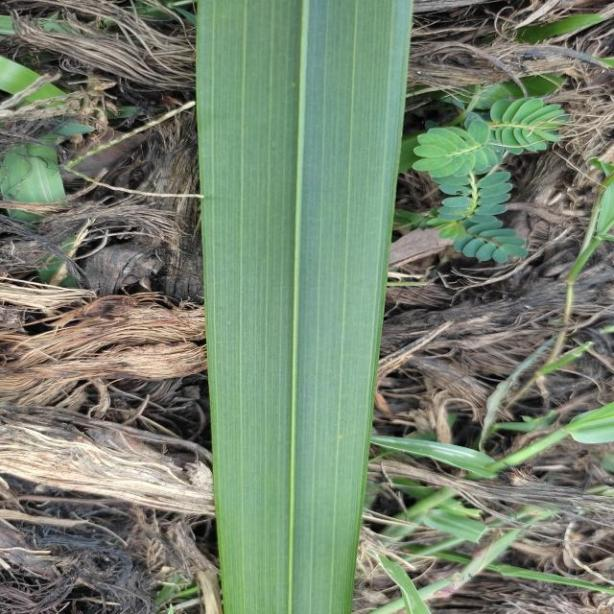Healthy: (192, 5, 412, 614)
